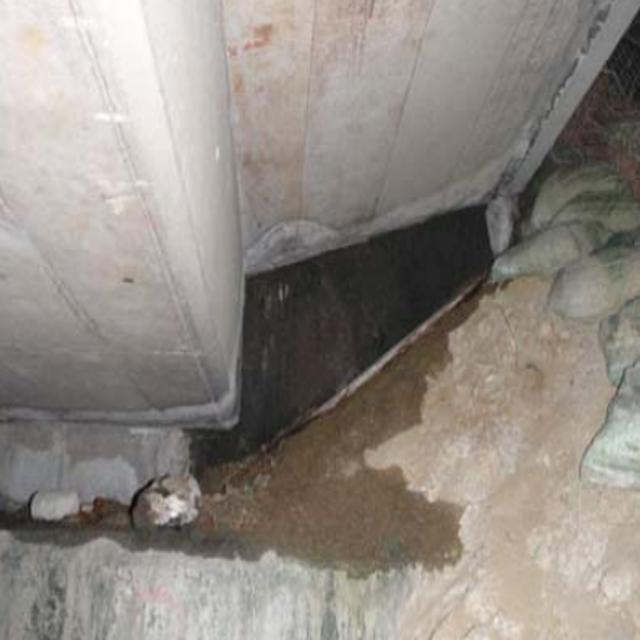leakage: (222, 213, 502, 596)
